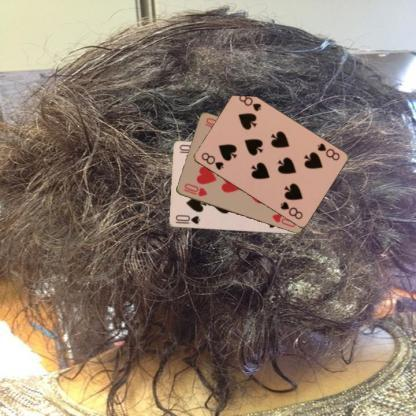10h: (180, 180, 208, 198)
10s: (172, 213, 202, 225)
8s: (198, 150, 225, 172), (314, 140, 341, 162)
